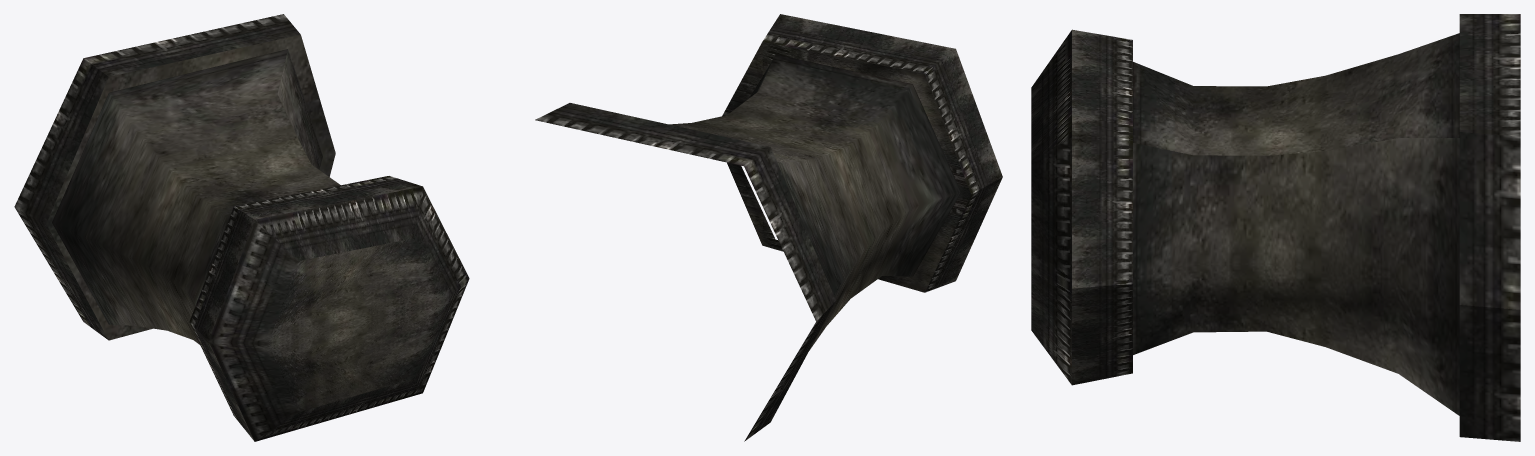
3 renders of one model, left to right at view 1: azimuth 30°, elevation 25°; view 2: azimuth 150°, elevation 25°; view 3: azimuth 270°, elevation 25°, orthographic. The views are drawn at different scales.
Parts seen in each view (by area): view 1: model_Object27; view 2: model_Object27; view 3: model_Object27.
Boxes of the visible parts, left/top/right/bottom form: model_Object27: left=14, top=14, right=469, bottom=441; model_Object27: left=535, top=14, right=1002, bottom=441; model_Object27: left=1031, top=14, right=1520, bottom=441.
Size of the model in its own units: 2.59 by 2.14 by 3.01.
1 material, 1 textured.
